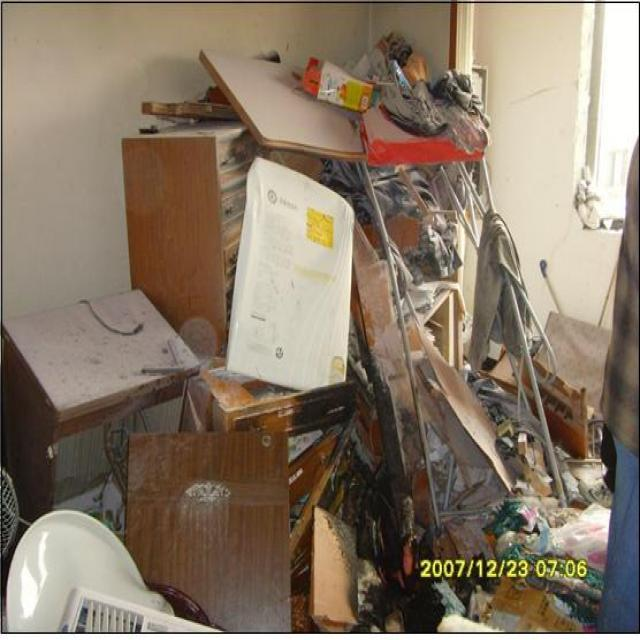Boiler: (218, 166, 369, 420)
